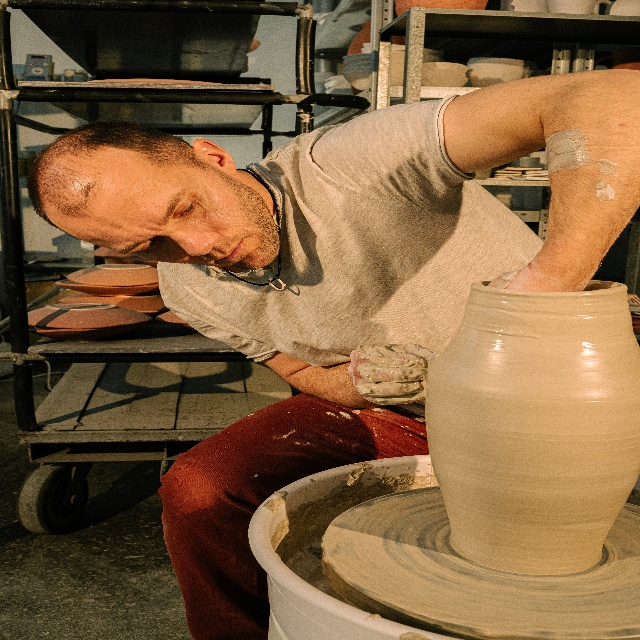Sin_guantes: (348, 344, 430, 409)
